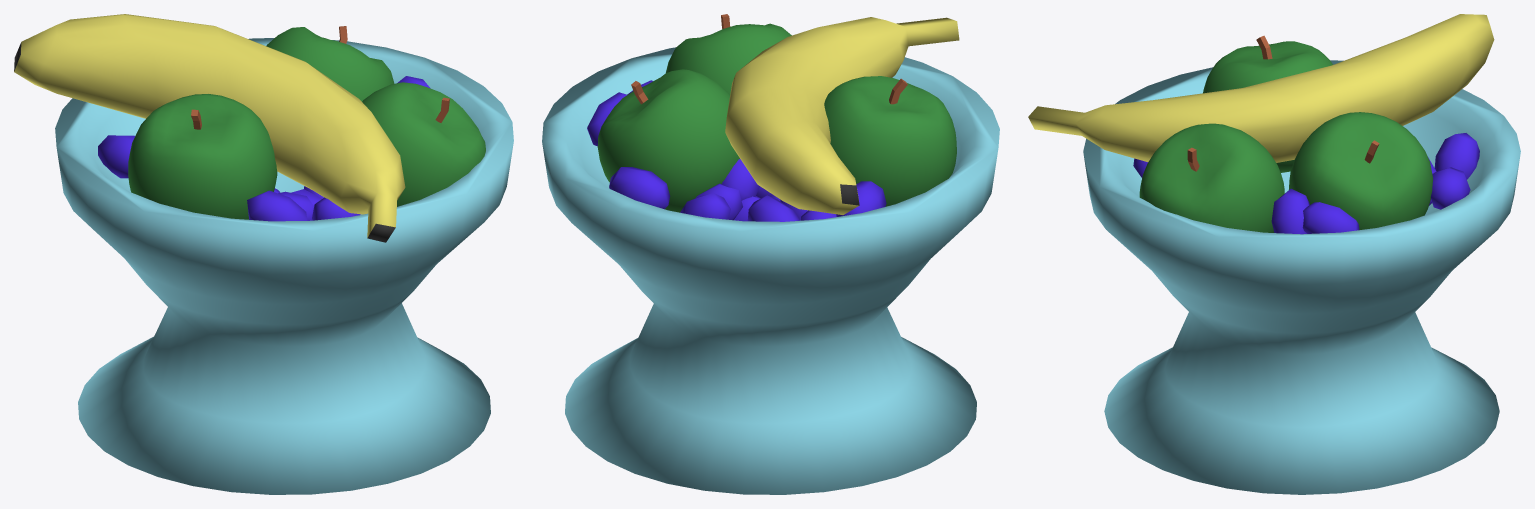
File: FruitbowlFilled.fbx
3 renders of one model, left to right at view 1: azimuth 30°, elevation 25°; view 2: azimuth 150°, elevation 25°; view 3: azimuth 270°, elevation 25°, orthographic. The views are drawn at different scales.
Visible parts, largest first — view 1: fruitbowl; view 2: fruitbowl; view 3: fruitbowl.
Part boxes in pixels (<box>): fruitbowl: <box>14,14,513,494</box>; fruitbowl: <box>542,14,999,494</box>; fruitbowl: <box>1028,14,1520,494</box>.
Bounding box in the file's own units: 2 × 2.25 × 1.72.
